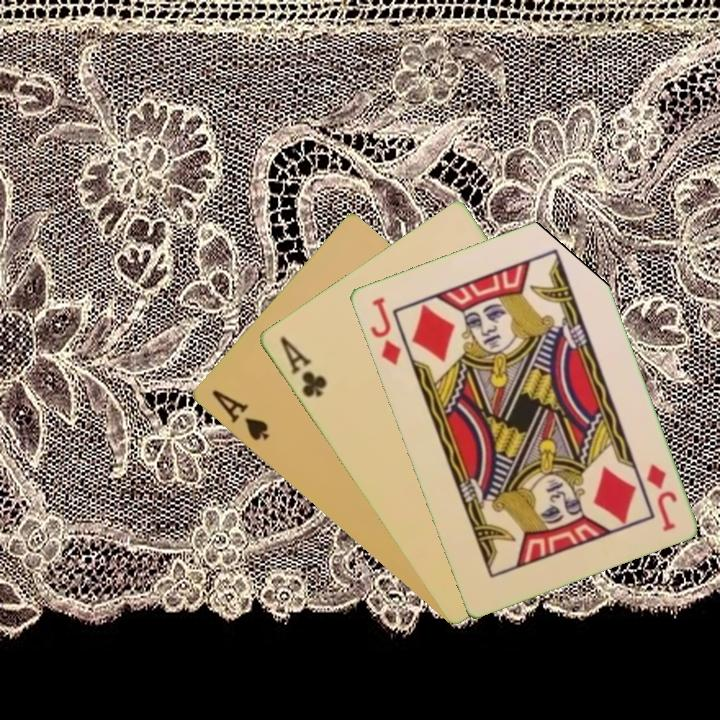Ac: (275, 332, 330, 401)
As: (208, 386, 272, 444)
Jd: (366, 293, 404, 368), (642, 460, 680, 534)
